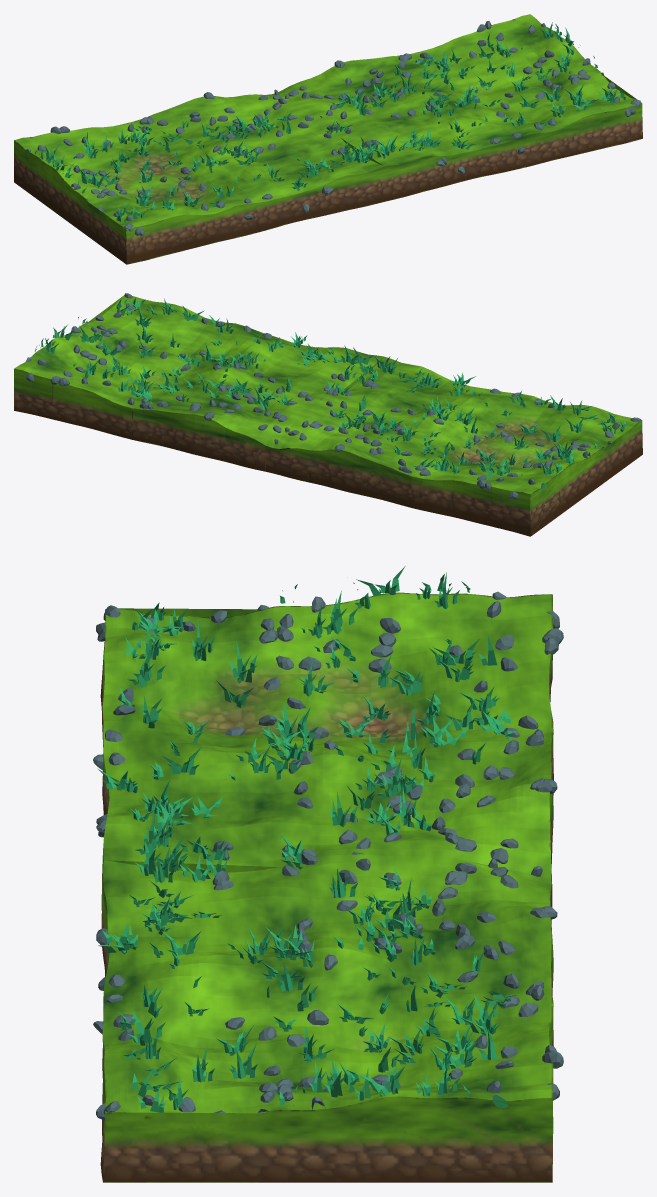
Rendered from re_upper_long1.fbx.
3 renders of one model, top to bottom at view 1: azimuth 30°, elevation 25°; view 2: azimuth 150°, elevation 25°; view 3: azimuth 270°, elevation 25°, orthographic. The views are drawn at different scales.
Parts seen in each view (by area): view 1: middle; view 2: middle; view 3: middle.
Part boxes in pixels (bbox=[...]): middle: bbox=[14, 14, 642, 264]; middle: bbox=[14, 293, 642, 536]; middle: bbox=[93, 566, 563, 1182].
Bounding box in the file's own units: 1600 × 170 × 632.
